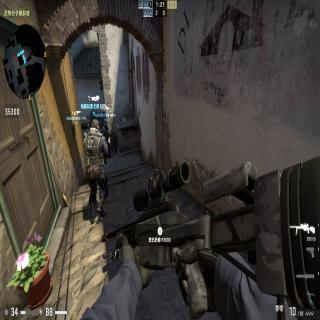CT-Body: (84, 119, 109, 222), (100, 122, 114, 163)
CT-Head: (92, 119, 99, 132), (103, 123, 109, 131)
